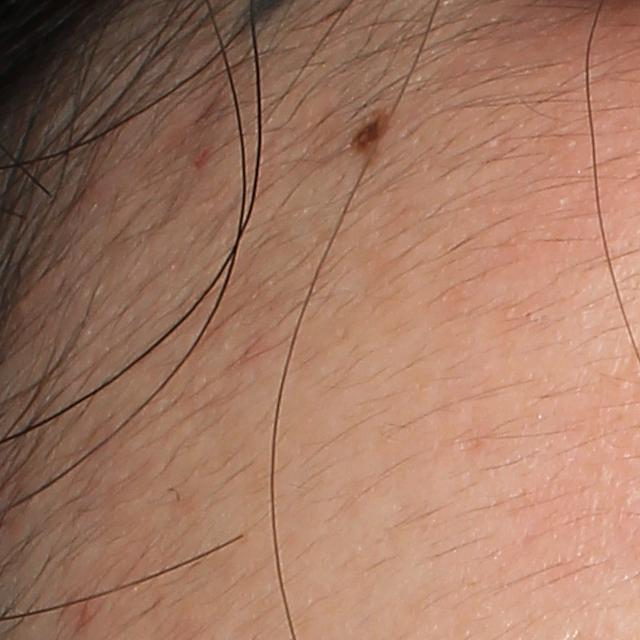nevus: (351, 112, 385, 147)
